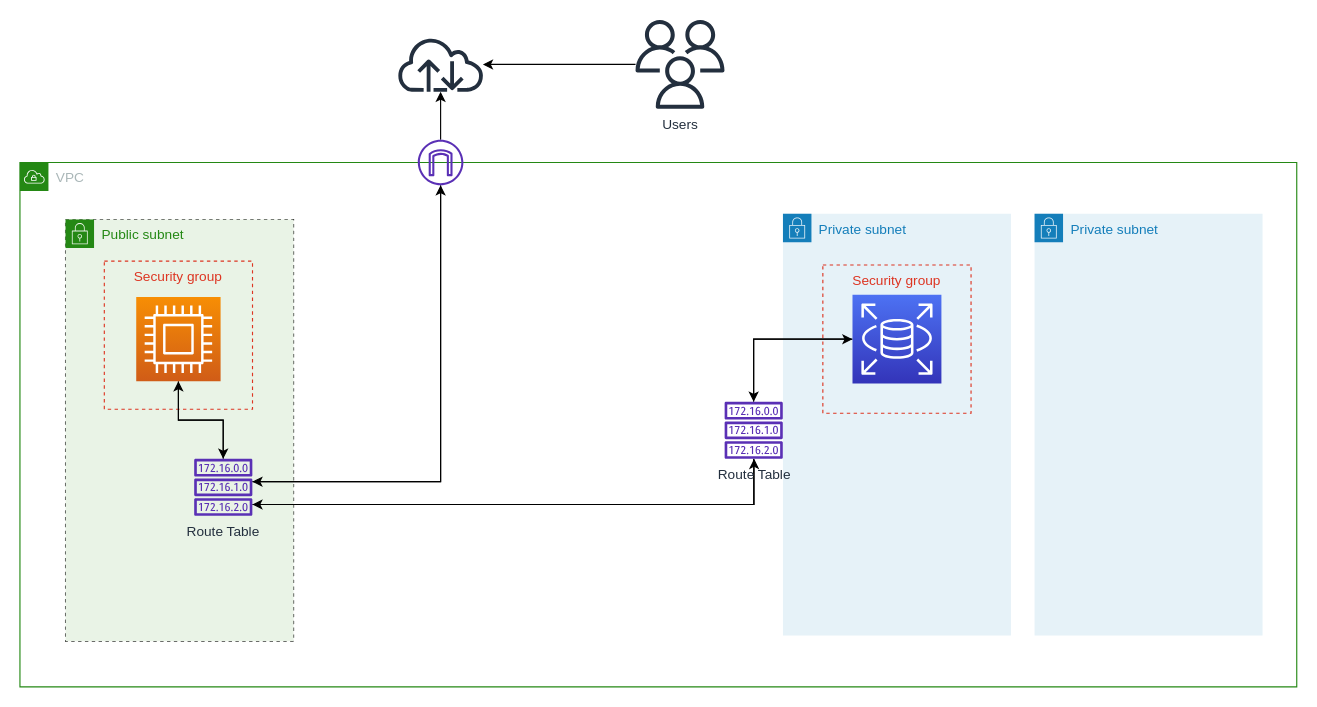
Some shapes in this 1317 by 707 pixel diagram are drawn without their labels. Each missing label, with the centre of its shape:
EC2: (x=178, y=338)
Internet: (x=440, y=63)
RDS: (x=896, y=339)
